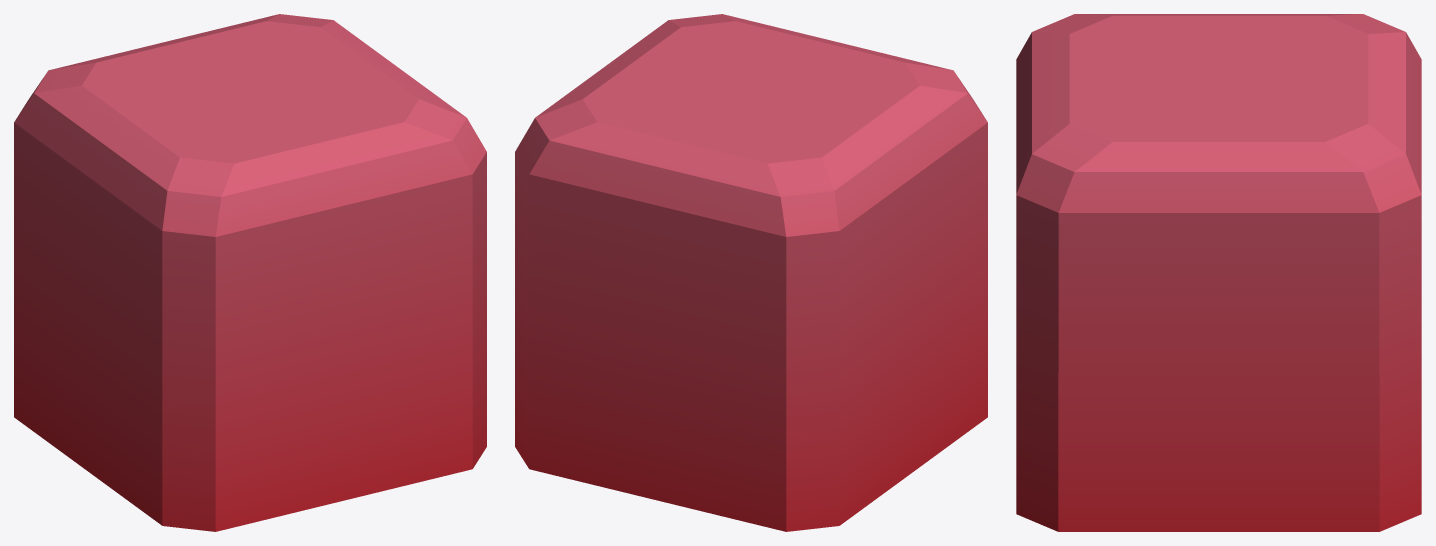
File: StoolRed.fbx
3 renders of one model, left to right at view 1: azimuth 30°, elevation 25°; view 2: azimuth 150°, elevation 25°; view 3: azimuth 270°, elevation 25°, orthographic. The views are drawn at different scales.
Parts seen in each view (by area): view 1: RedStool; view 2: RedStool; view 3: RedStool.
Part boxes in pixels (x1,y1,x2,y2): RedStool: (14, 14, 486, 531); RedStool: (515, 14, 987, 531); RedStool: (1016, 14, 1421, 531).
Bounding box in the file's own units: 75 × 75 × 75.
